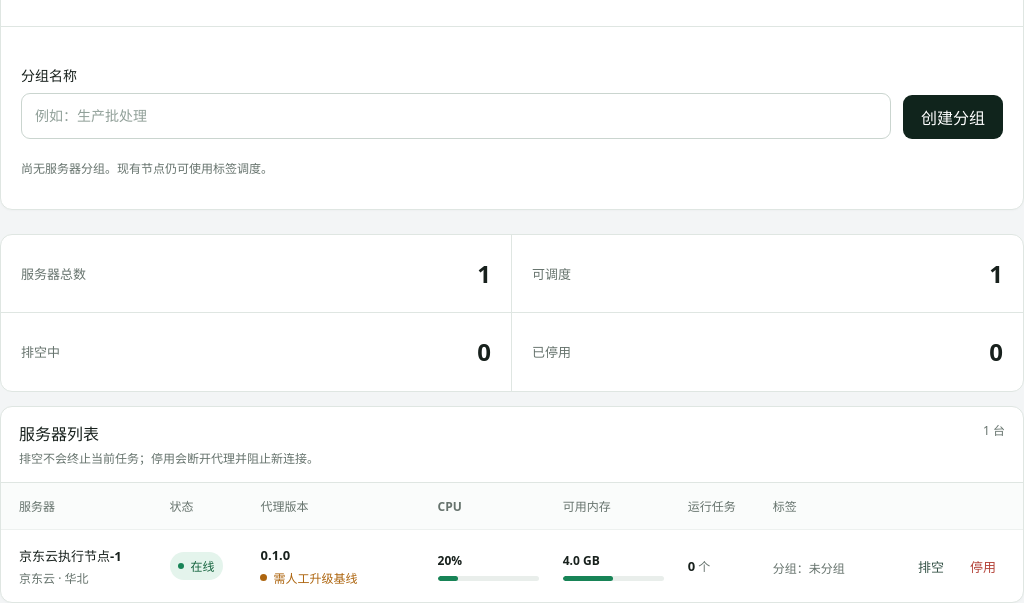
Test: 服务器管理 › 管理员可轮换并紧急吊销代理凭据
The image size is (1024, 603).
(page scrolled)
Click the button with aria-label "查看京东云执行节点-1详情": (70, 566) x1=19 y1=544 x2=122 y2=588
(page scrolled)
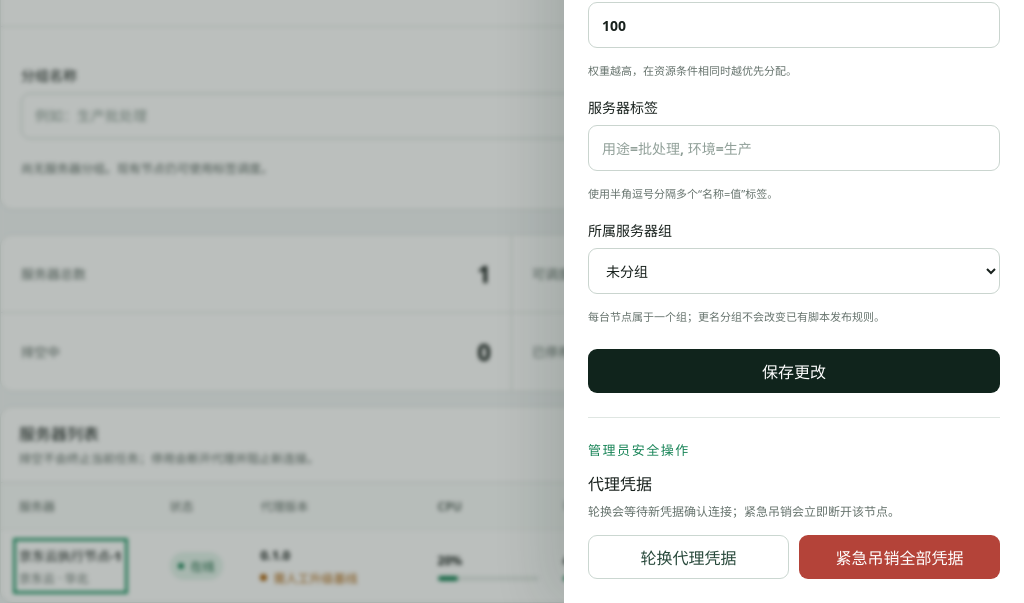
Click the button "轮换代理凭据": (688, 557) x1=588 y1=535 x2=789 y2=579
(page scrolled)
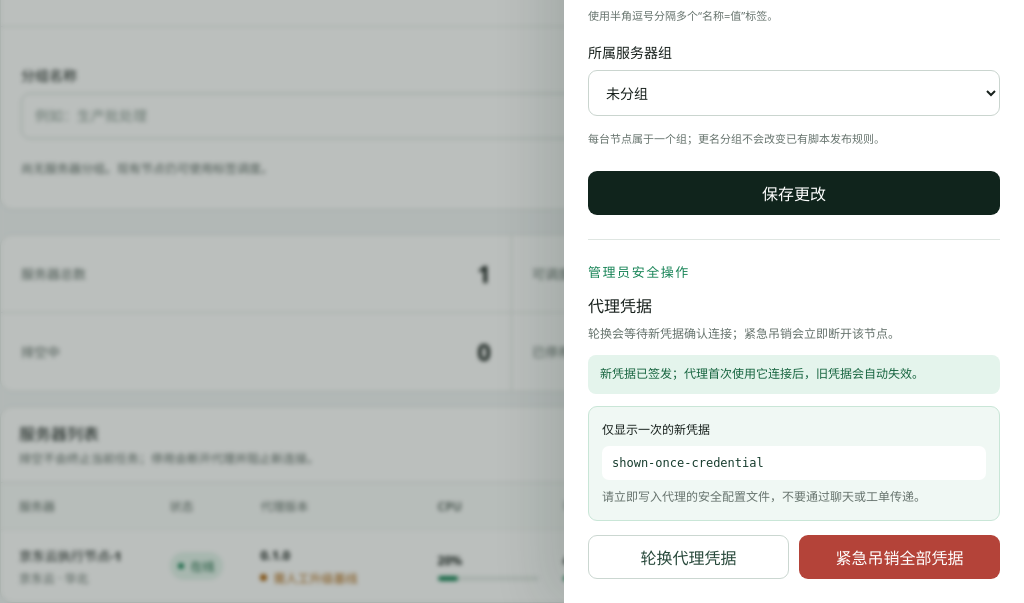
Check: the text "shown-once-credential" is shown, box x1=602 y1=446 x2=986 y2=480
Click the button "紧急吊销全部凭据": (900, 556) x1=799 y1=534 x2=1000 y2=578
(page scrolled)
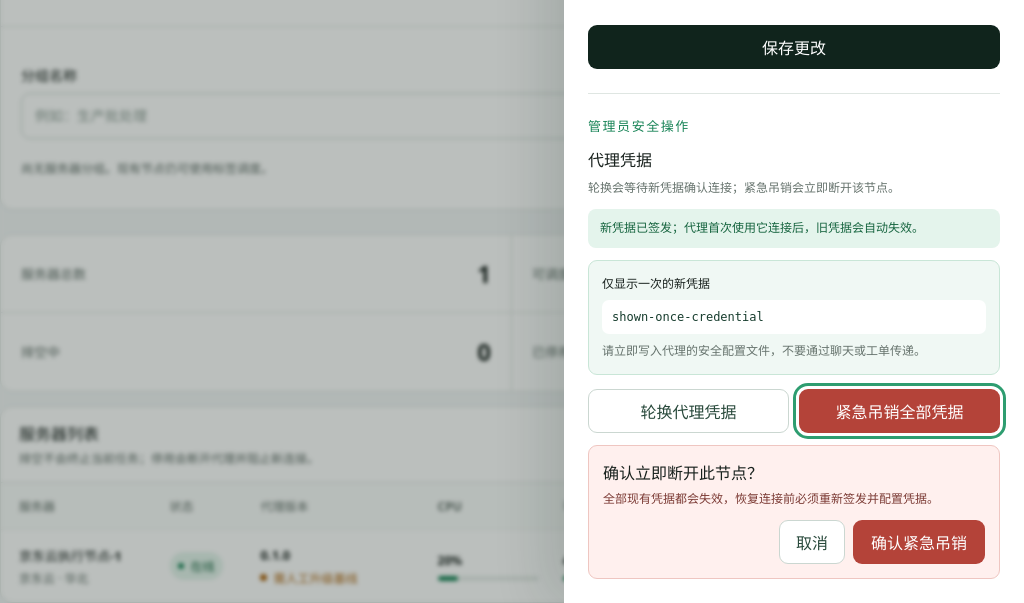
Click the button "确认紧急吊销": (919, 542) x1=853 y1=520 x2=985 y2=564
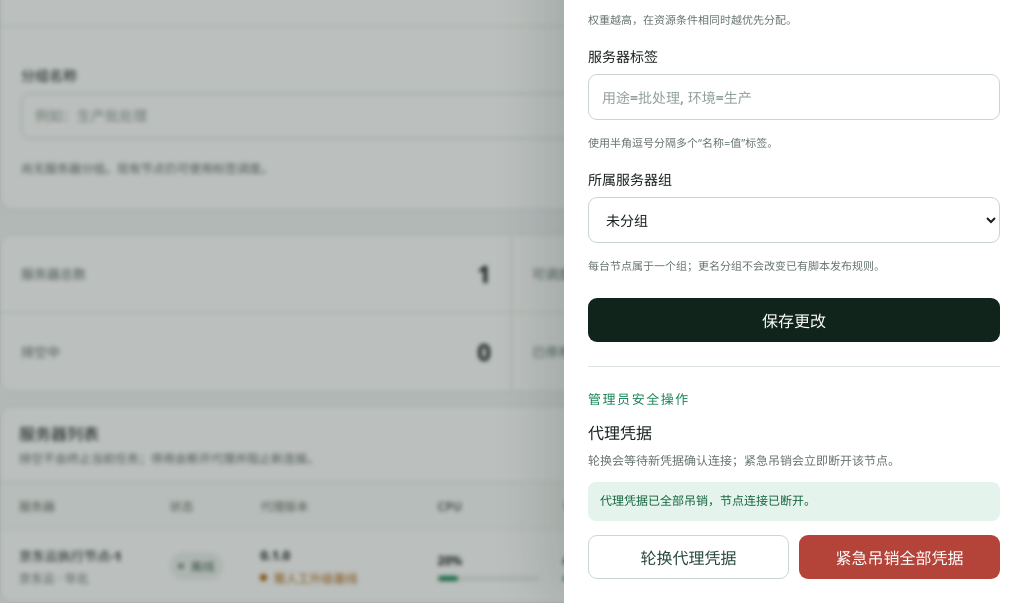
Check: the text "代理凭据已全部吊销，节点连接已断开。" is shown, box x1=588 y1=482 x2=1000 y2=521
